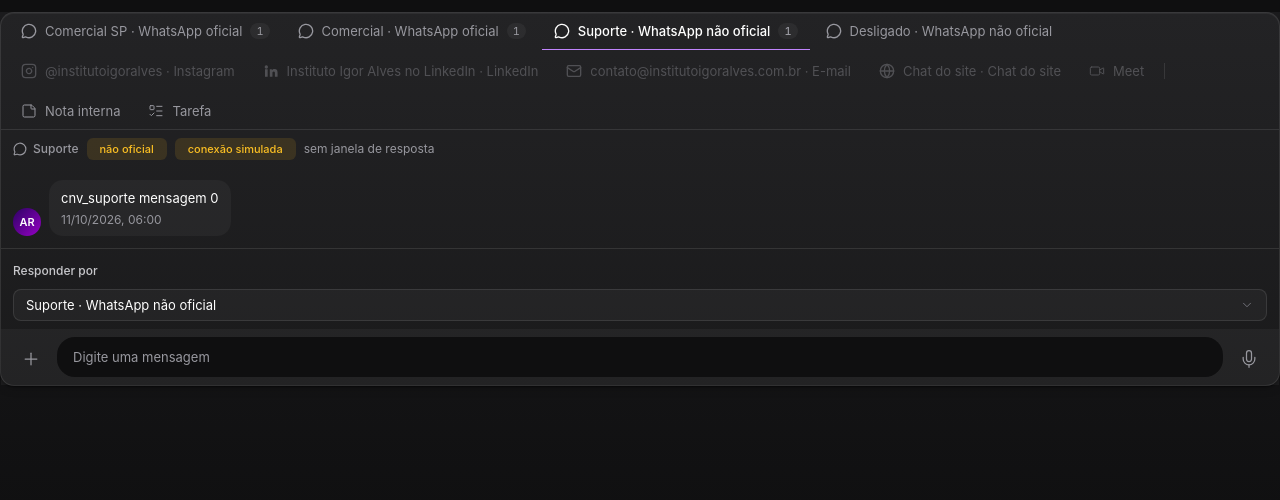
Scenario: ConversationThread — o fio por Canal › (4) trocar o “Responder por” muda a aba, abre a Conversa do outro Canal e não toca no Canal de nenhuma existente
Step 1. Click the dropdown named "Responder por" → (121,305), box [13,289,1267,321]
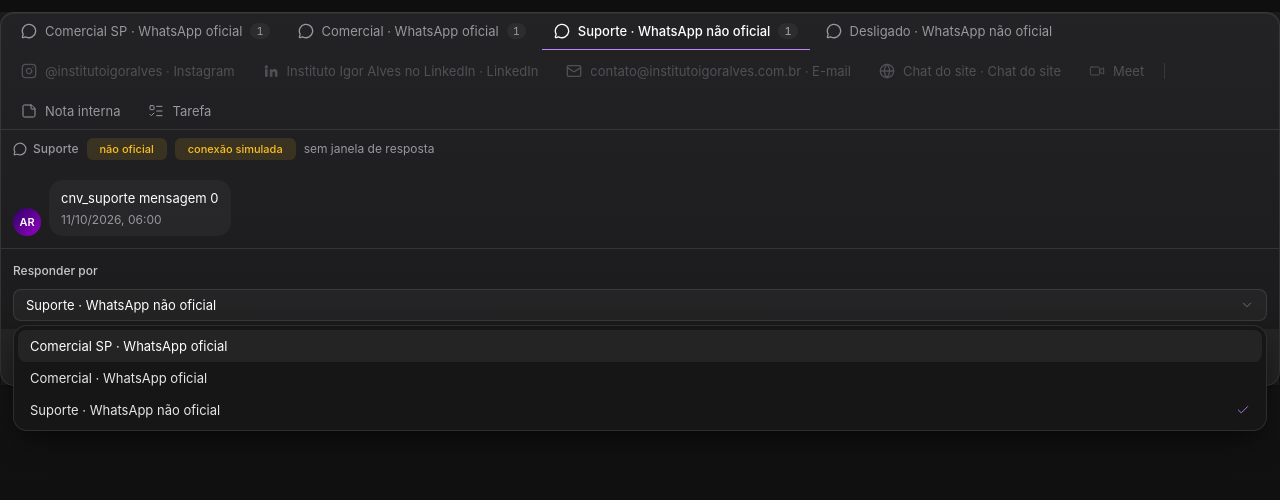
Now the option "Comercial · WhatsApp oficial" is shown
Step 2. Click the option "Comercial · WhatsApp oficial" → (119,378), box [18,362,1262,394]
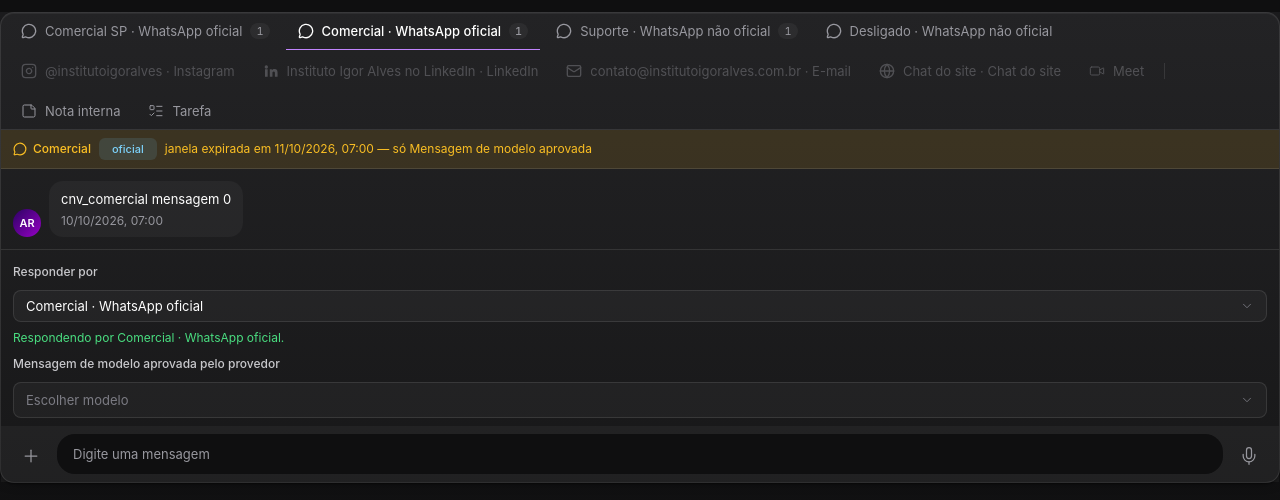
Now the message reads "Respondendo por Comercial · WhatsApp oficial.", box [13,330,284,345]
Now the text "cnv_comercial mensagem 0" is shown, box [61,189,231,209]
